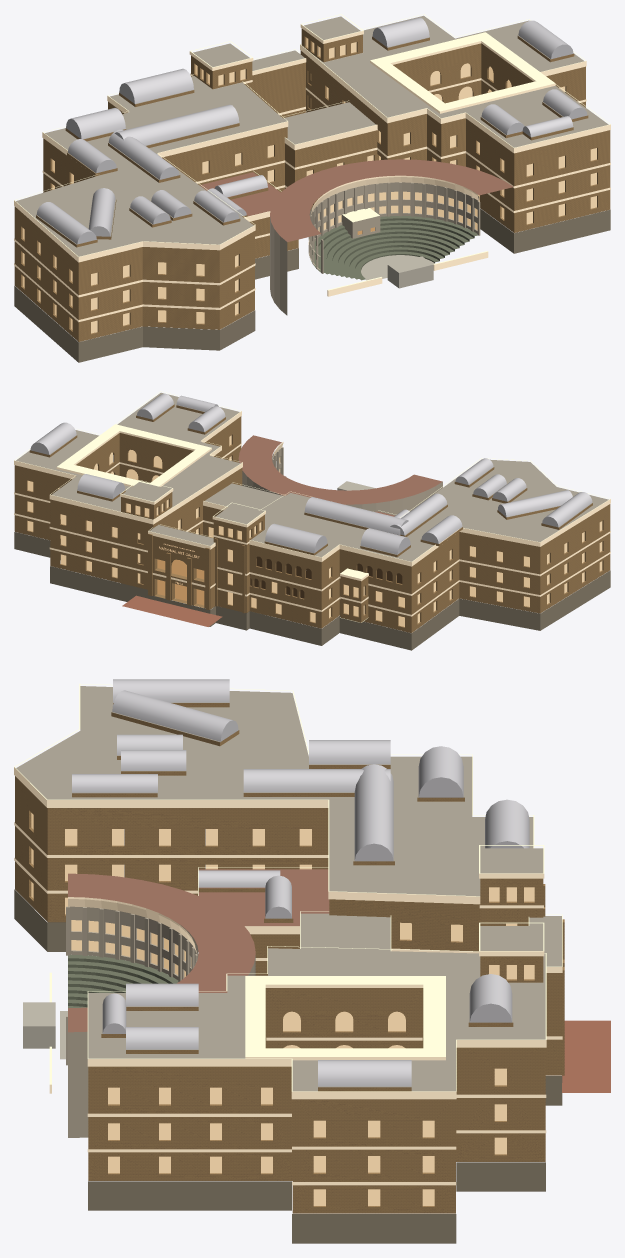
Rendered from pnca.glb.
3 views of the same model, one above another, from view 1: azimuth 30°, elevation 25°; view 2: azimuth 150°, elevation 25°; view 3: azimuth 270°, elevation 25° (orthographic). The views are drawn at different scales.
Parts seen in each view (by area): view 1: m_pnca_brick, m_pnca_roof, m_pnca_band, m_pnca_barrel, m_pnca_plinth, m_pnca_terracotta_roof, m_pnca_plaster, m_pnca_glass, m_pnca_seats, m_pnca_stage; view 2: m_pnca_brick, m_pnca_roof, m_pnca_barrel, m_pnca_band, m_pnca_plinth, m_pnca_glass, m_pnca_terracotta_roof, m_pnca_plaster, m_pnca_red_paving, m_pnca_brick_shade, m_pnca_void; view 3: m_pnca_brick, m_pnca_roof, m_pnca_barrel, m_pnca_band, m_pnca_plinth, m_pnca_terracotta_roof, m_pnca_glass, m_pnca_plaster, m_pnca_red_paving, m_pnca_seats, m_pnca_stage.
Part boxes in pixels (x1=…): m_pnca_brick: x1=14, y1=28, x2=610, y2=341; m_pnca_roof: x1=16, y1=15, x2=608, y2=256; m_pnca_band: x1=14, y1=14, x2=610, y2=322; m_pnca_barrel: x1=36, y1=17, x2=587, y2=244; m_pnca_plinth: x1=14, y1=209, x2=610, y2=362; m_pnca_terracotta_roof: x1=200, y1=159, x2=513, y2=242; m_pnca_plaster: x1=270, y1=182, x2=480, y2=315; m_pnca_glass: x1=22, y1=37, x2=596, y2=333; m_pnca_seats: x1=311, y1=216, x2=477, y2=280; m_pnca_stage: x1=361, y1=255, x2=434, y2=288; m_pnca_brick: x1=14, y1=404, x2=610, y2=633; m_pnca_roof: x1=16, y1=392, x2=608, y2=561; m_pnca_barrel: x1=30, y1=393, x2=592, y2=554; m_pnca_band: x1=14, y1=391, x2=610, y2=622; m_pnca_plinth: x1=14, y1=532, x2=610, y2=650; m_pnca_glass: x1=27, y1=435, x2=602, y2=626; m_pnca_terracotta_roof: x1=238, y1=435, x2=442, y2=516; m_pnca_plaster: x1=238, y1=447, x2=442, y2=515; m_pnca_red_paving: x1=122, y1=595, x2=222, y2=626; m_pnca_brick_shade: x1=250, y1=556, x2=402, y2=598; m_pnca_void: x1=157, y1=559, x2=204, y2=605; m_pnca_brick: x1=15, y1=703, x2=564, y2=1213; m_pnca_roof: x1=16, y1=686, x2=561, y2=1091; m_pnca_barrel: x1=72, y1=679, x2=529, y2=1086; m_pnca_band: x1=14, y1=683, x2=562, y2=1185; m_pnca_plinth: x1=14, y1=889, x2=562, y2=1243; m_pnca_terracotta_roof: x1=68, y1=869, x2=329, y2=1032; m_pnca_glass: x1=31, y1=813, x2=534, y2=1205; m_pnca_plaster: x1=66, y1=906, x2=255, y2=1137; m_pnca_red_paving: x1=562, y1=1020, x2=610, y2=1092; m_pnca_seats: x1=68, y1=954, x2=178, y2=1008; m_pnca_stage: x1=23, y1=1002, x2=67, y2=1059.
Bounding box in the file's own units: 118 × 24.6 × 73.12.
15 materials, 1 textured.
